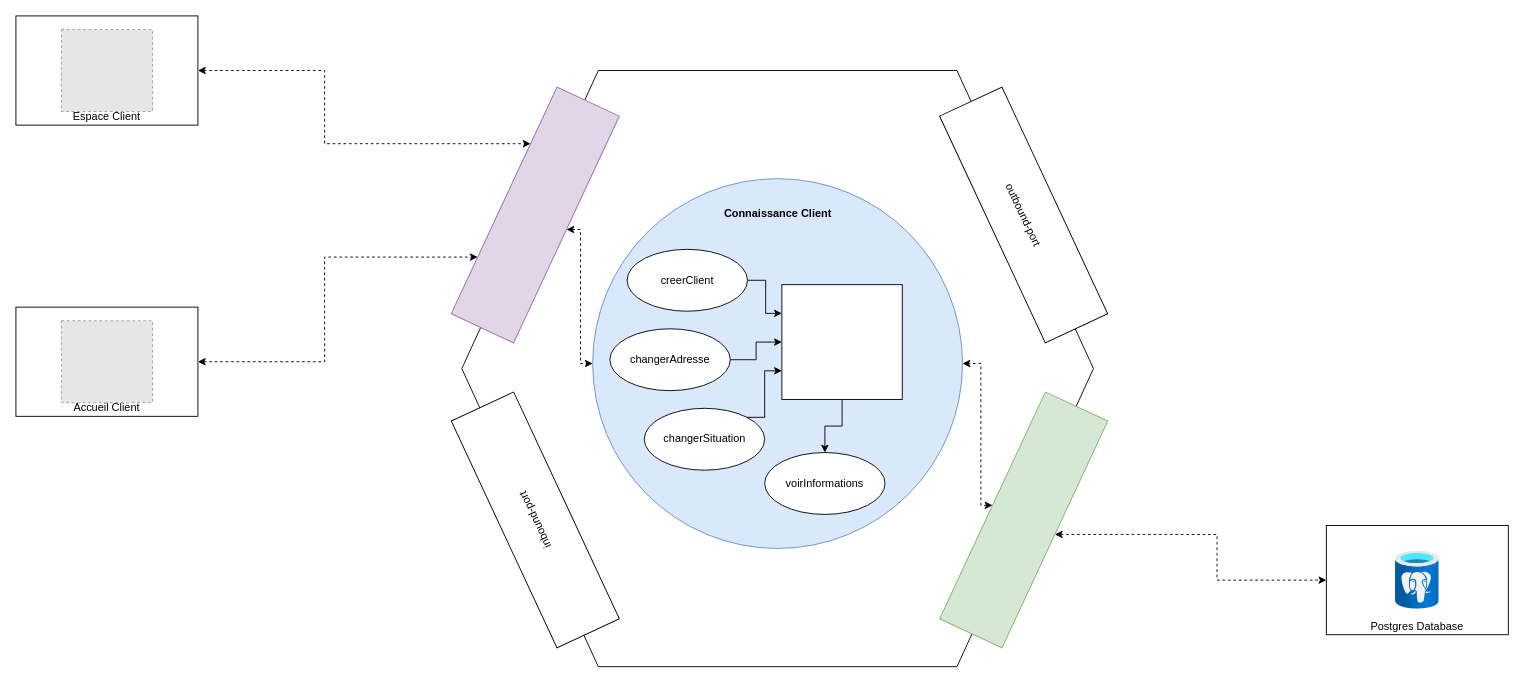
This 1524x683 diagram has some shape labels left out. Grey dashed boxes stand in for pictures. The shapes that lost their labels are listed below. From the top down, each one's centre as x and y in pixels, then its label:
At point 534,214: "API".
At point 841,341: "nom prenom dateNaissance adresse situation nombreEnfants".
At point 1023,519: "DB Repository (Postgres)".
